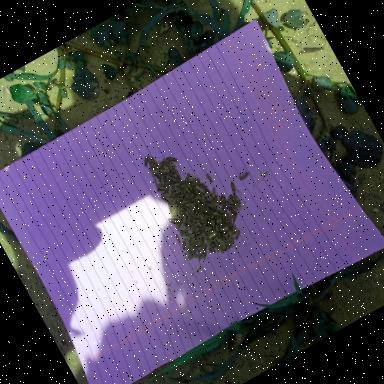pbw: (194, 181, 208, 196), (180, 200, 194, 215), (148, 155, 161, 171), (164, 171, 178, 184), (144, 153, 156, 168), (227, 180, 239, 195), (229, 192, 240, 208), (198, 248, 211, 261), (224, 201, 236, 215), (158, 191, 170, 205), (208, 186, 220, 200), (216, 234, 228, 248), (146, 164, 158, 178), (192, 185, 203, 200), (178, 237, 190, 250), (198, 192, 210, 205), (165, 152, 178, 164), (168, 214, 180, 227), (173, 167, 184, 181), (229, 210, 241, 222), (158, 164, 170, 176), (188, 210, 200, 222), (204, 224, 216, 236), (216, 192, 228, 204), (158, 176, 170, 188), (232, 228, 244, 240), (141, 155, 152, 168), (160, 160, 170, 174), (200, 180, 210, 194), (233, 192, 243, 206), (165, 183, 176, 195), (166, 160, 177, 172), (210, 198, 221, 210), (166, 201, 176, 214), (225, 196, 236, 207), (156, 185, 167, 196), (182, 232, 192, 244), (152, 178, 162, 190), (192, 244, 202, 256), (210, 218, 220, 230), (207, 230, 219, 240), (188, 200, 198, 212), (182, 172, 194, 182), (220, 224, 232, 234), (176, 208, 186, 219), (169, 195, 180, 205), (198, 231, 208, 242), (187, 175, 198, 185), (206, 243, 216, 254), (174, 232, 183, 244), (205, 171, 214, 183), (186, 247, 195, 259), (225, 212, 234, 224), (184, 182, 192, 195), (219, 200, 229, 210), (230, 224, 240, 234), (180, 213, 190, 223), (157, 174, 167, 184), (186, 230, 196, 240), (234, 202, 244, 212), (201, 210, 211, 220), (197, 210, 205, 222), (178, 224, 188, 233), (199, 240, 208, 249), (198, 243, 207, 252), (182, 186, 190, 196), (214, 240, 222, 250), (176, 222, 186, 230), (222, 244, 231, 252), (215, 216, 224, 224), (194, 229, 203, 237), (226, 238, 235, 246), (176, 192, 185, 200), (212, 210, 220, 218), (204, 223, 212, 231), (174, 184, 182, 192), (192, 252, 200, 259), (202, 216, 209, 224), (192, 225, 200, 232), (218, 246, 224, 254), (197, 176, 202, 182)
